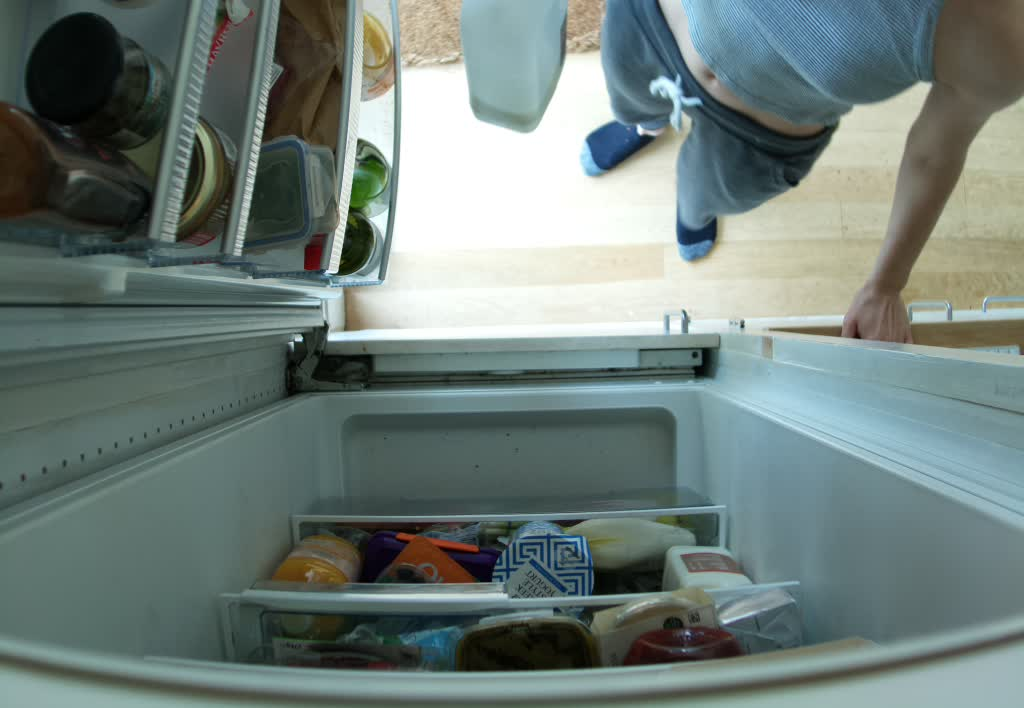milk: (459, 1, 568, 138)
